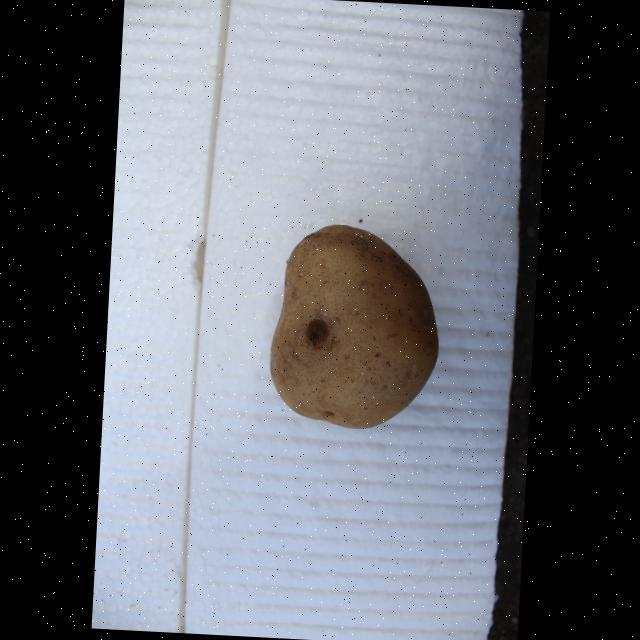Damaged potato: (260, 218, 447, 436)
